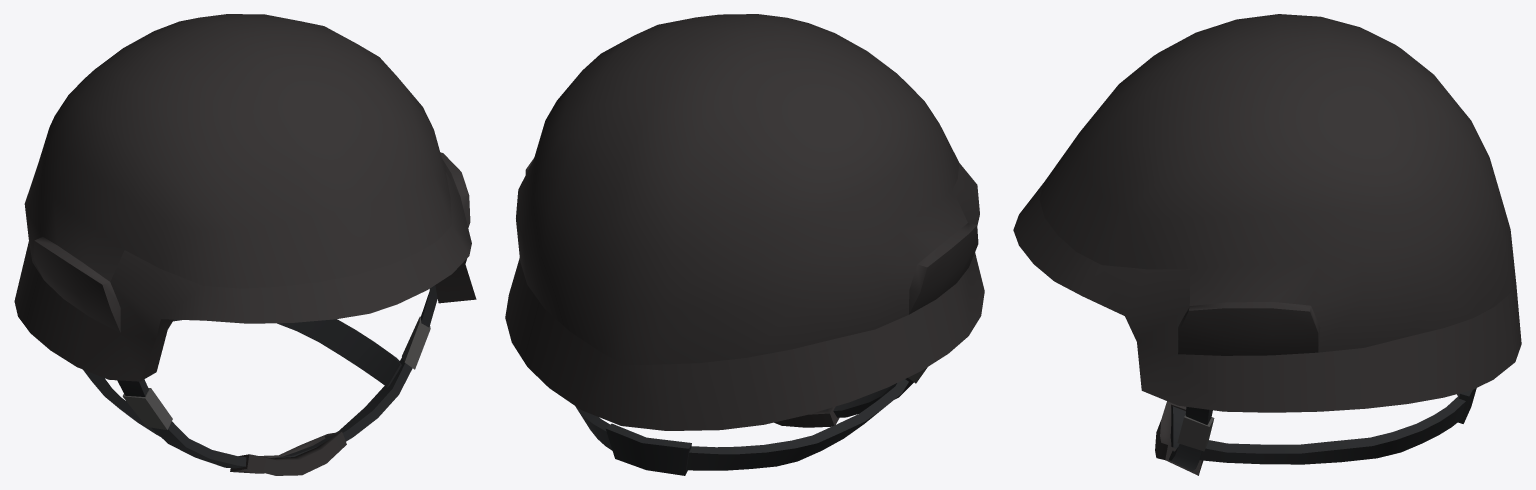
File: 18特警头盔.fbx
3 views of the same model, side by side, from view 1: azimuth 30°, elevation 25°; view 2: azimuth 150°, elevation 25°; view 3: azimuth 270°, elevation 25° (orthographic). The views are drawn at different scales.
Parts seen in each view (by area): view 1: 18特警头盔; view 2: 18特警头盔; view 3: 18特警头盔.
Boxes of the visible parts, x1,y1,x2,y2 form: 18特警头盔: (14, 14, 476, 475); 18特警头盔: (505, 14, 984, 475); 18特警头盔: (1013, 14, 1521, 475).
Size of the model in its own units: 0.4869 by 0.4781 by 0.52.
